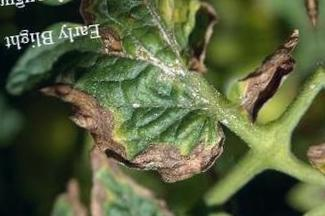Tomato Early blight leaf: (20, 0, 228, 197)
